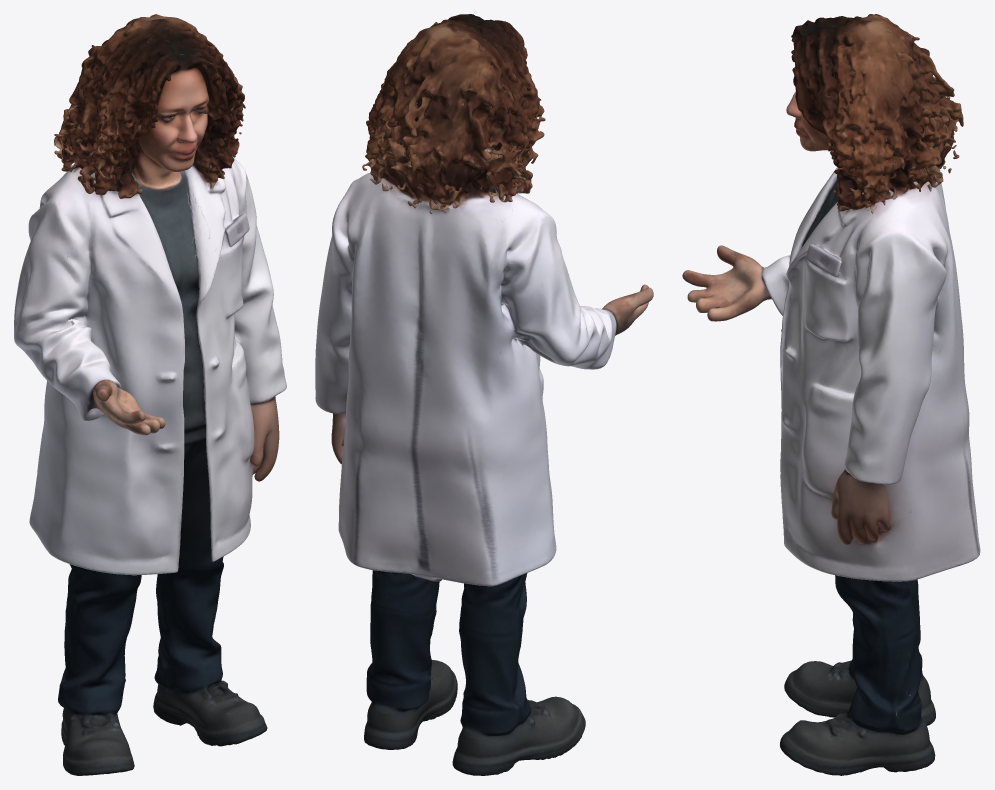
Rendered from femme.glb.
3 renders of one model, left to right at view 1: azimuth 30°, elevation 25°; view 2: azimuth 150°, elevation 25°; view 3: azimuth 270°, elevation 25°, orthographic.
Parts seen in each view (by area): view 1: world; view 2: world; view 3: world.
Boxes of the visible parts, left/top/right/bottom form: world: left=14, top=14, right=286, bottom=775; world: left=315, top=14, right=653, bottom=775; world: left=682, top=14, right=980, bottom=775.
Size of the model in its own units: 0.3837 by 1 by 0.3731.
Materials: 1 (1 with a texture image).
